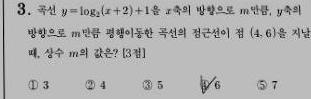choice: (198, 75, 212, 95)
not-choice: (82, 78, 96, 91), (26, 78, 39, 91), (140, 78, 153, 91), (255, 79, 268, 91)
